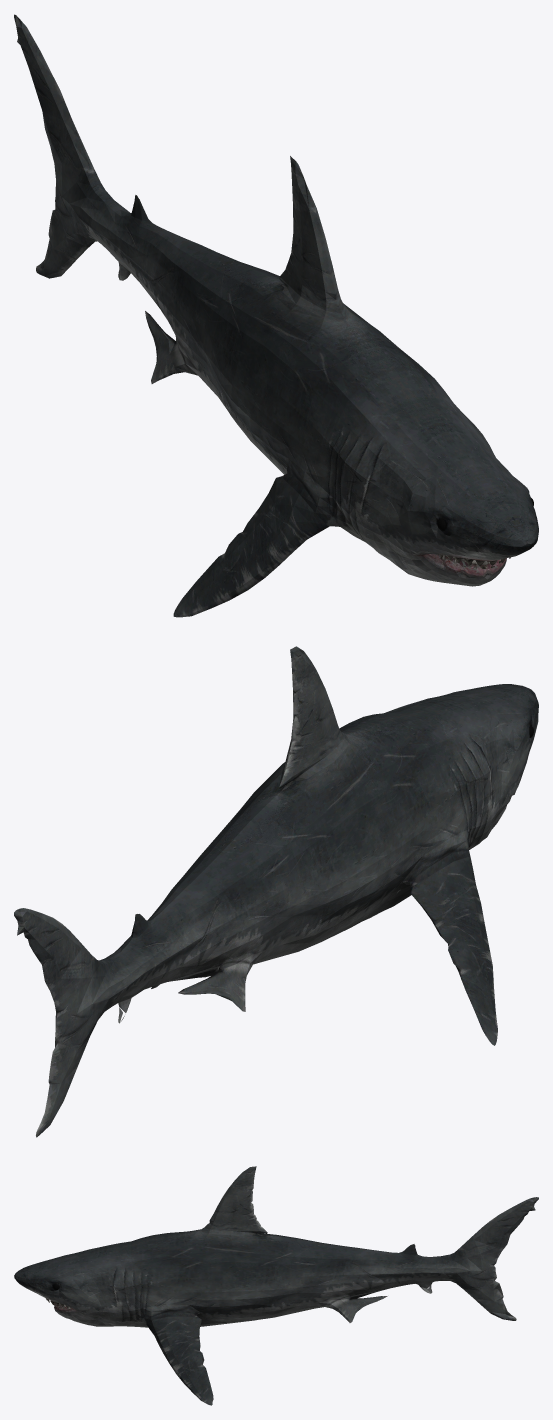
The model's file is Shark.obj.
3 renders of one model, top to bottom at view 1: azimuth 30°, elevation 25°; view 2: azimuth 150°, elevation 25°; view 3: azimuth 270°, elevation 25°, orthographic. The views are drawn at different scales.
Parts seen in each view (by area): view 1: ref.001_ref_greatwhiteshark; view 2: ref.001_ref_greatwhiteshark; view 3: ref.001_ref_greatwhiteshark.
Boxes of the visible parts, x1,y1,x2,y2 form: ref.001_ref_greatwhiteshark: (14, 14, 538, 617); ref.001_ref_greatwhiteshark: (14, 646, 538, 1137); ref.001_ref_greatwhiteshark: (14, 1166, 538, 1405).
Size of the model in its own units: 8.73 by 10.11 by 24.16.
3 materials, 3 textured.
